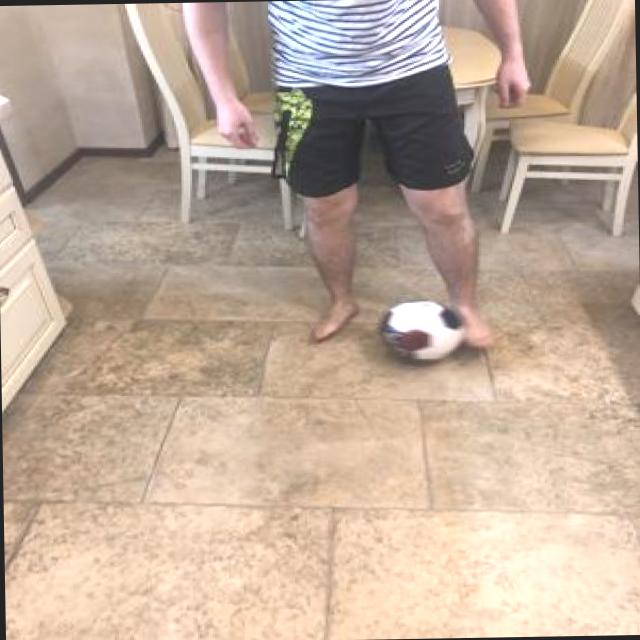Soccer Ball: (372, 297, 463, 364)
